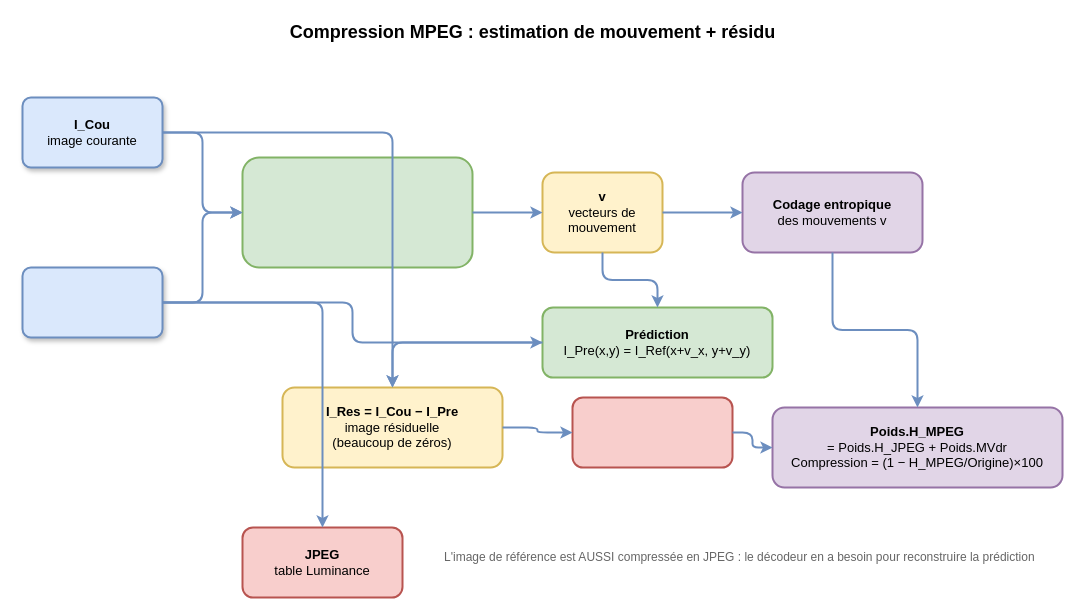
Some shapes in this 1080 by 615 pixel diagram are drawn without their labels. The centre of each missing label's shape, as x and y in pixels:
Estimation du mouvement macro-blocs 16×16 Cross Search Algorithm min EQM: pixel 357 212
I_Ref image de référence: pixel 93 303
JPEG table Résidu (16): pixel 652 432
